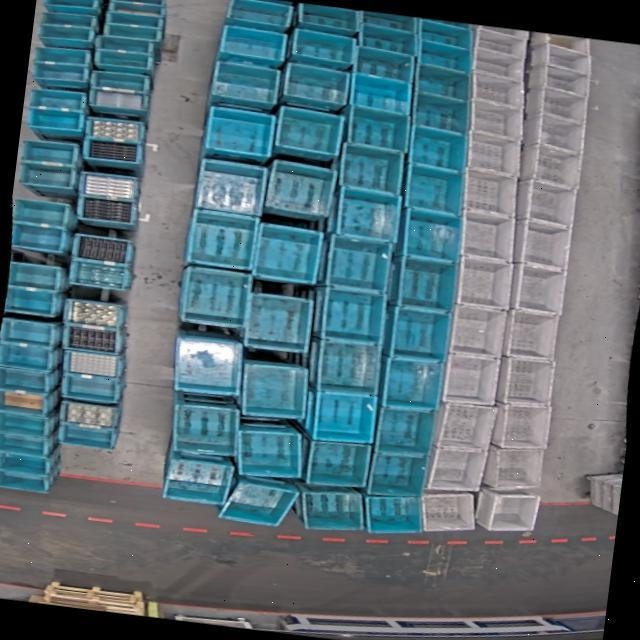Box: (236, 357, 312, 423), (186, 207, 262, 269), (215, 476, 302, 530), (172, 334, 245, 398), (254, 220, 327, 284), (262, 158, 339, 218), (180, 264, 252, 328), (242, 291, 316, 353), (169, 398, 246, 457), (233, 422, 307, 482), (314, 335, 384, 397), (161, 452, 236, 508), (310, 386, 380, 446), (301, 436, 376, 492), (392, 253, 462, 312), (327, 231, 393, 293), (320, 284, 387, 345), (196, 158, 267, 215), (388, 304, 455, 363), (363, 445, 432, 502), (274, 104, 346, 158), (420, 440, 489, 496), (334, 185, 404, 240), (381, 354, 447, 411), (296, 483, 368, 535), (204, 105, 277, 156), (338, 142, 408, 195), (372, 401, 438, 457), (430, 399, 499, 452), (399, 206, 464, 262), (490, 397, 554, 453), (439, 350, 501, 406), (359, 489, 427, 540), (484, 442, 549, 495), (404, 162, 470, 214), (496, 354, 559, 408), (343, 103, 412, 152), (416, 486, 480, 538), (455, 254, 516, 308), (513, 218, 576, 269), (506, 308, 564, 362), (450, 304, 510, 356), (517, 177, 580, 226), (211, 59, 279, 104), (457, 208, 518, 258), (284, 62, 352, 106), (475, 488, 540, 534), (514, 262, 571, 314), (462, 167, 522, 216), (520, 142, 586, 186), (290, 27, 358, 66), (347, 72, 413, 112), (465, 130, 521, 176), (411, 126, 469, 170), (220, 24, 287, 62), (470, 96, 526, 140), (414, 91, 472, 133), (524, 112, 588, 150), (524, 84, 589, 121), (58, 371, 125, 404), (59, 396, 126, 429), (63, 296, 128, 330), (416, 62, 474, 100), (529, 60, 593, 94), (470, 69, 526, 107), (530, 41, 594, 74), (356, 45, 416, 80), (419, 37, 478, 72), (298, 1, 363, 32), (79, 192, 140, 225), (72, 233, 136, 264), (224, 0, 294, 28), (69, 259, 132, 290), (359, 21, 418, 54), (63, 348, 125, 379), (84, 134, 147, 164), (56, 419, 118, 449), (10, 196, 69, 227), (85, 114, 148, 143), (0, 315, 57, 347), (473, 27, 530, 59), (474, 46, 527, 80), (79, 170, 139, 200), (62, 324, 122, 354), (20, 158, 76, 190), (9, 259, 62, 292), (11, 222, 69, 252), (88, 68, 152, 95), (90, 86, 150, 114), (0, 340, 54, 370), (21, 137, 78, 165), (5, 286, 58, 316), (28, 103, 84, 131), (418, 18, 474, 46), (30, 85, 86, 112), (32, 42, 90, 68), (32, 58, 90, 83), (0, 364, 50, 393), (360, 8, 418, 32), (94, 34, 157, 56), (0, 387, 49, 415), (103, 20, 164, 42), (530, 31, 591, 53), (0, 469, 51, 495), (37, 8, 97, 30), (39, 20, 96, 43), (0, 409, 50, 435), (94, 48, 153, 70), (0, 450, 52, 474), (106, 0, 168, 19), (0, 431, 49, 455), (104, 10, 165, 28), (42, 0, 98, 11), (114, 0, 167, 8)
